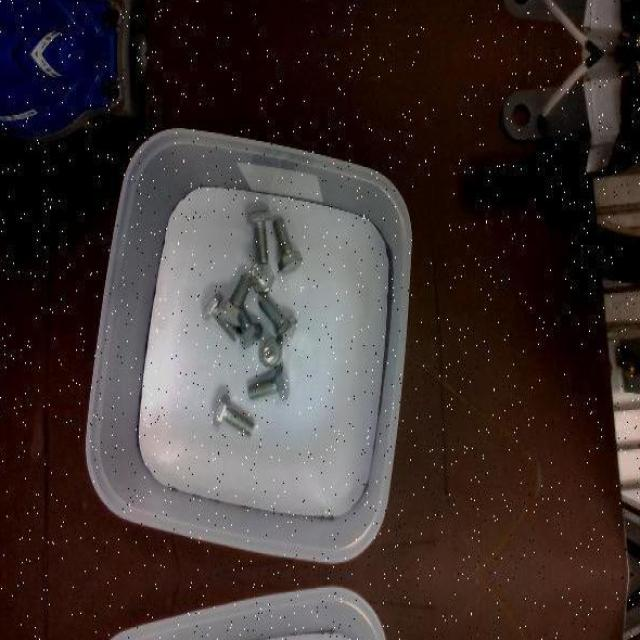screw: (260, 294, 298, 344), (219, 272, 254, 326), (213, 392, 255, 436), (273, 218, 304, 273), (248, 362, 290, 400), (248, 209, 274, 263), (259, 335, 282, 372), (252, 262, 276, 293)
